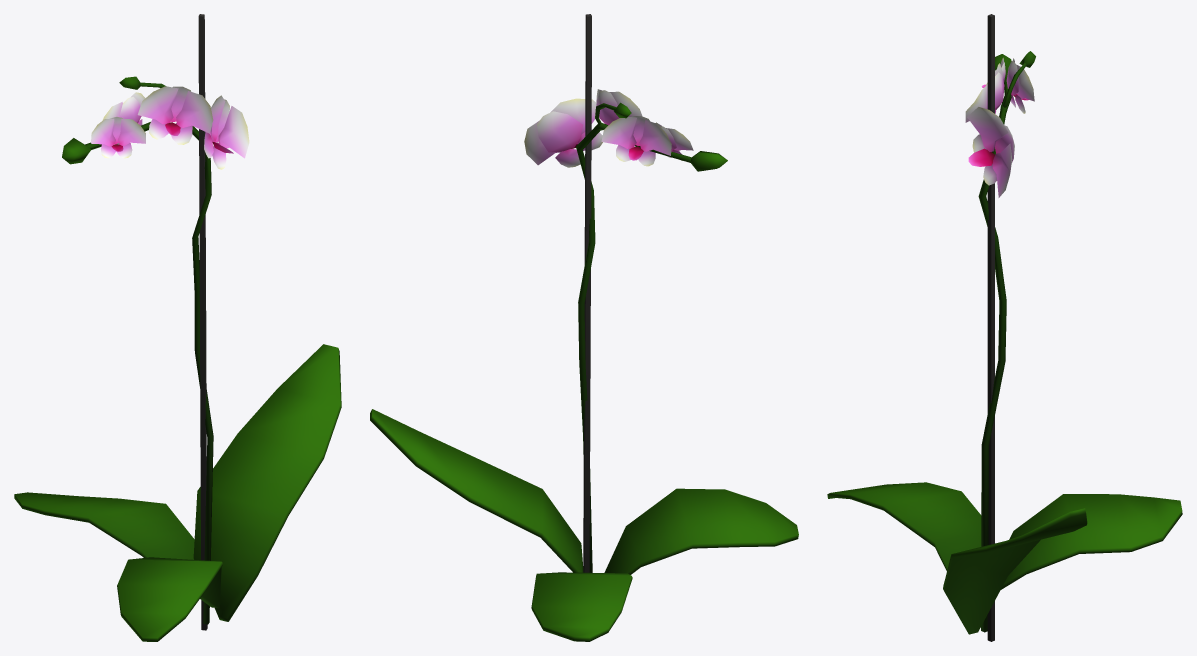
File: Plant_Orchid.fbx
3 views of the same model, side by side, from view 1: azimuth 30°, elevation 25°; view 2: azimuth 150°, elevation 25°; view 3: azimuth 270°, elevation 25° (orthographic).
Visible parts, largest first — view 1: Plant_Orchid; view 2: Plant_Orchid; view 3: Plant_Orchid.
Boxes of the visible parts, x1,y1,x2,y2 form: Plant_Orchid: (14, 14, 341, 641); Plant_Orchid: (370, 14, 798, 641); Plant_Orchid: (827, 14, 1182, 641).
Size of the model in its own units: 50.27 by 93.45 by 48.26.
